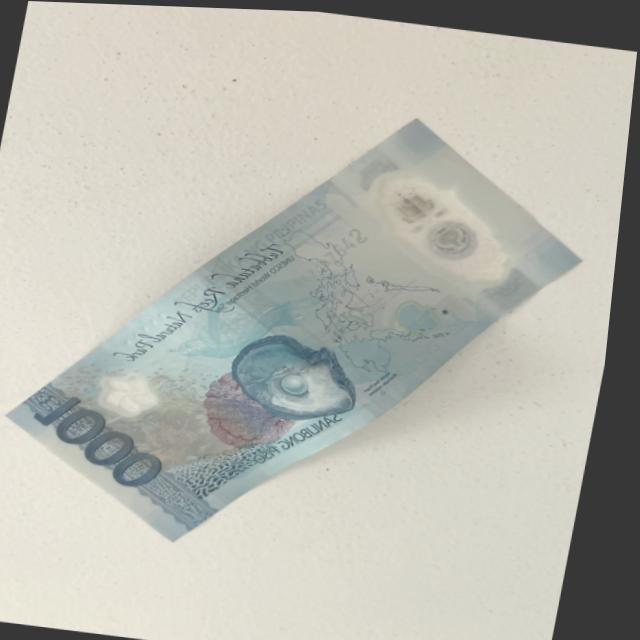clear_window: (340, 137, 546, 304)
sampaguita: (93, 361, 179, 421)
security_thread: (191, 249, 419, 417)
value: (45, 385, 186, 500)
value_watermark: (488, 262, 540, 305)
